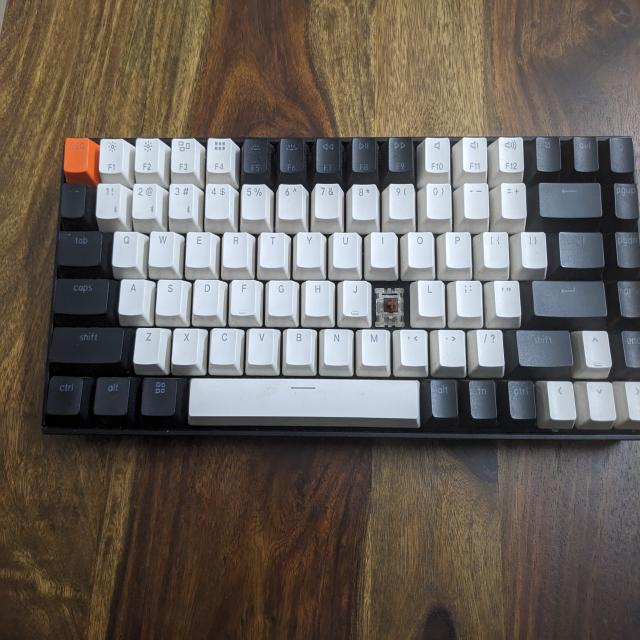C: (372, 280, 406, 332)
